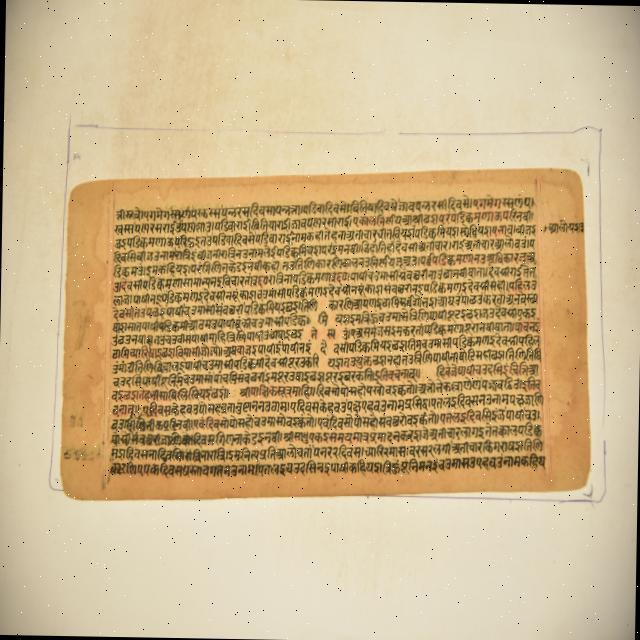text_paragraph: (63, 173, 590, 493)
